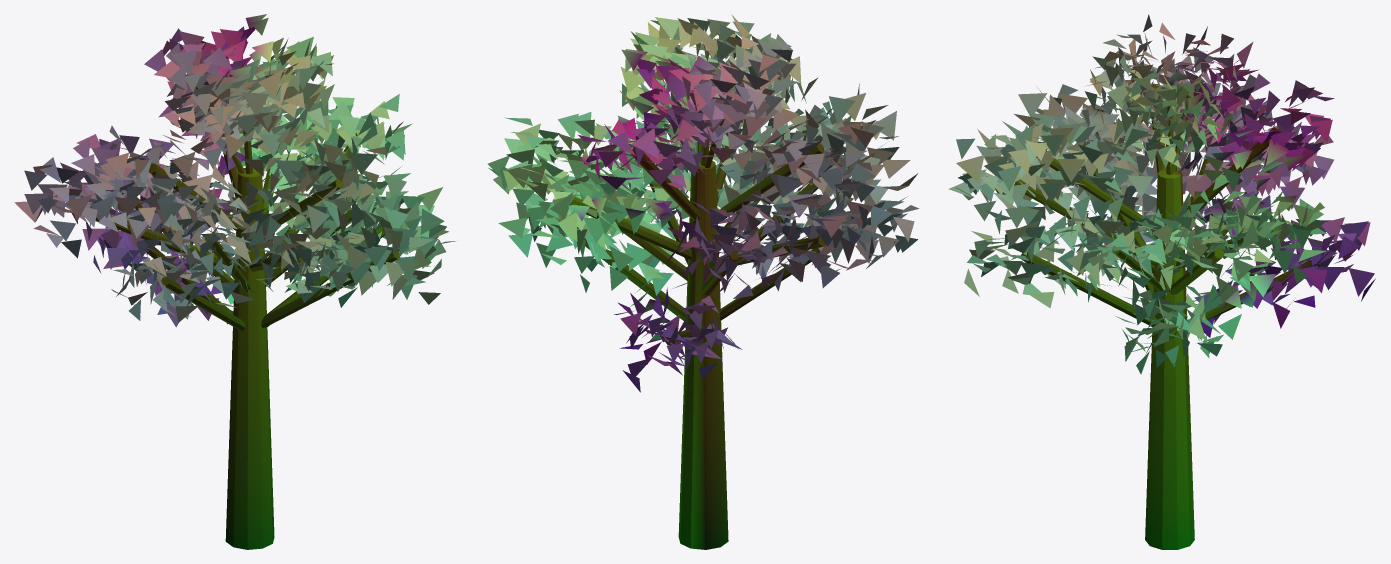
File: old_growth_broadleaf_01.glb
3 renders of one model, left to right at view 1: azimuth 30°, elevation 25°; view 2: azimuth 150°, elevation 25°; view 3: azimuth 270°, elevation 25°, orthographic. The views are drawn at different scales.
Parts seen in each view (by area): view 1: old_growth_broadleaf_01; view 2: old_growth_broadleaf_01; view 3: old_growth_broadleaf_01.
Boxes of the visible parts, x1,y1,x2,y2 form: old_growth_broadleaf_01: [14, 14, 455, 549]; old_growth_broadleaf_01: [487, 14, 919, 549]; old_growth_broadleaf_01: [948, 14, 1375, 549].
Bounding box in the file's own units: 15.98 × 19.62 × 15.54.
